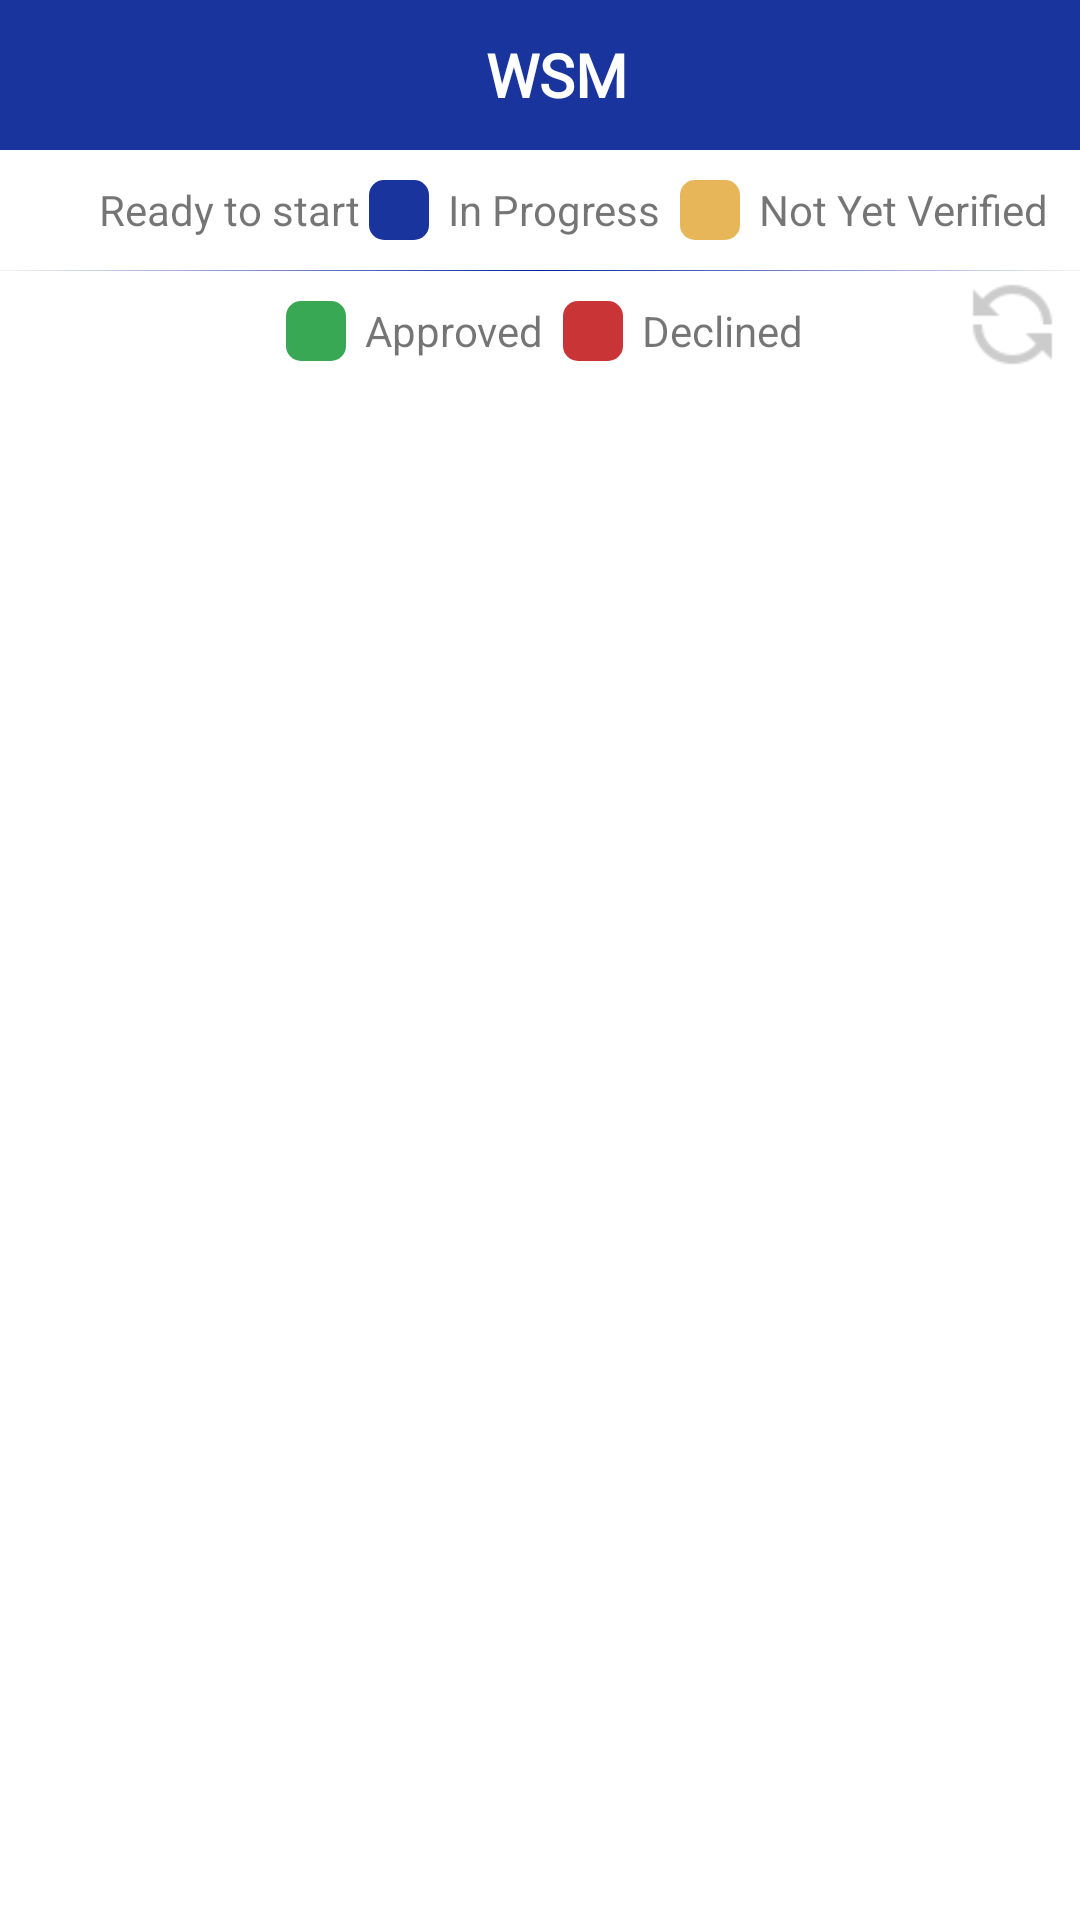

Icons on this 1080*1920 Android screen, each with the point to tap as point (x, y):
refresh: point (1012, 324)
